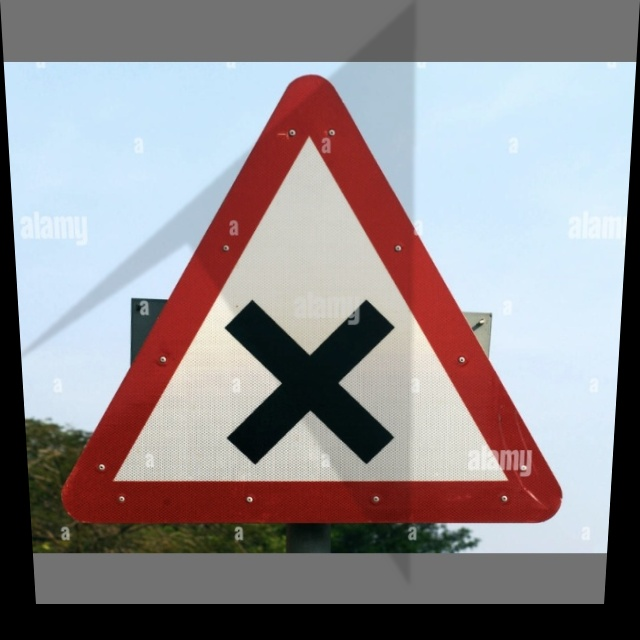Cross_Road: (82, 80, 582, 525)
